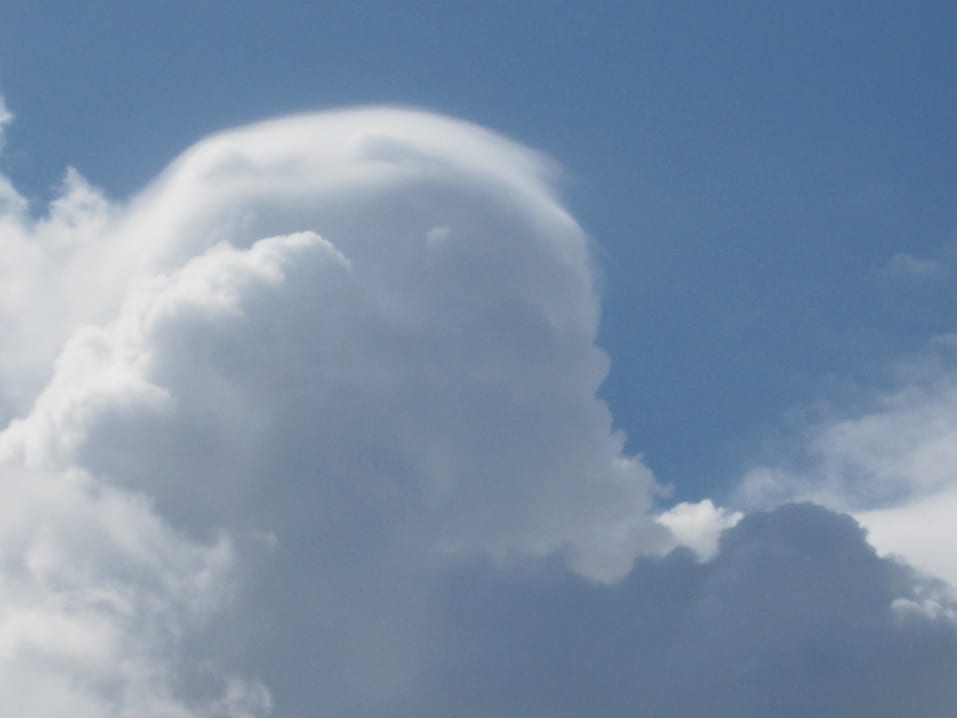Cumulus: (55, 64, 701, 602)
